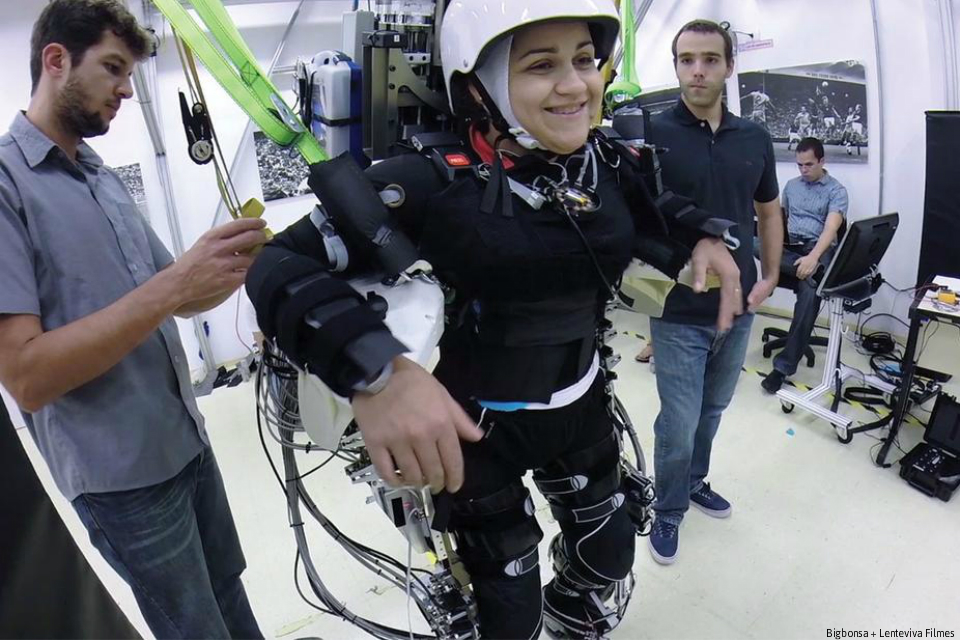feet: (636, 477, 748, 569), (475, 585, 646, 641), (752, 350, 812, 398)
